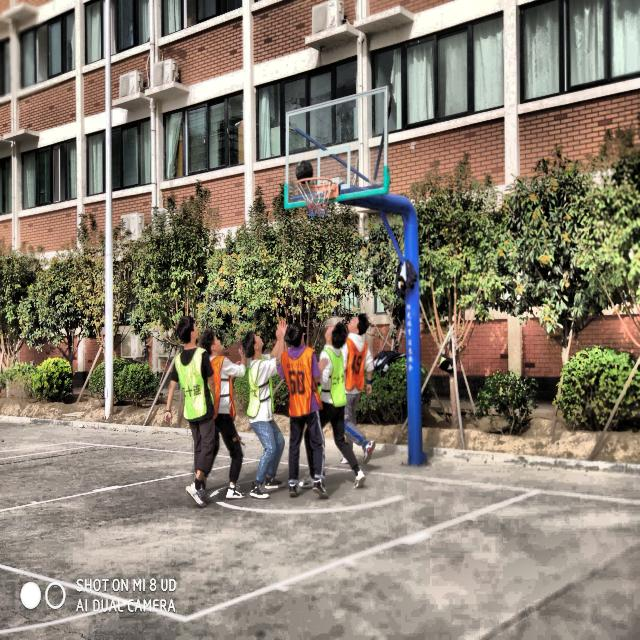rim: (296, 178, 334, 219)
